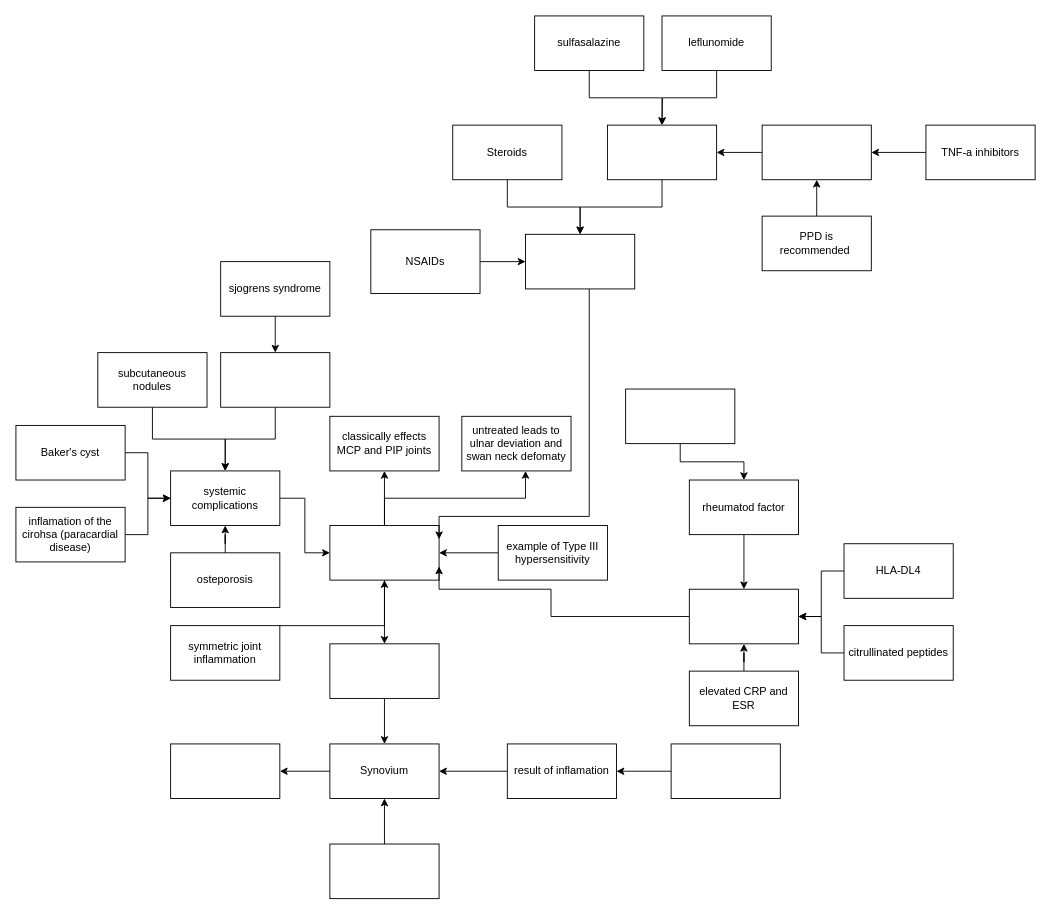
Image size: 1051x915. Some labels were removed from this diagram. Each missing label, with the centre of its shape:
"Disease-modifying antirhematic drugs (DMARDs)" goes at [662,152].
"Effects eye: episcleritis, scleritis, uveitis" goes at [275,379].
"hyaluronic acid to lubricate space" goes at [384,871].
"increased expression of TNF and IL-6" goes at [725,771].
"infliximab" goes at [816,152].
"Pathophysiology" goes at [384,670].
"poor specificity pos in multiple cases" goes at [680,416].
"Rheumatoid Arthritis" goes at [384,552].
"synovial hypertrophy results into pannus" goes at [225,771].
"Tests" goes at [743,616].
"treatment" goes at [580,261].
